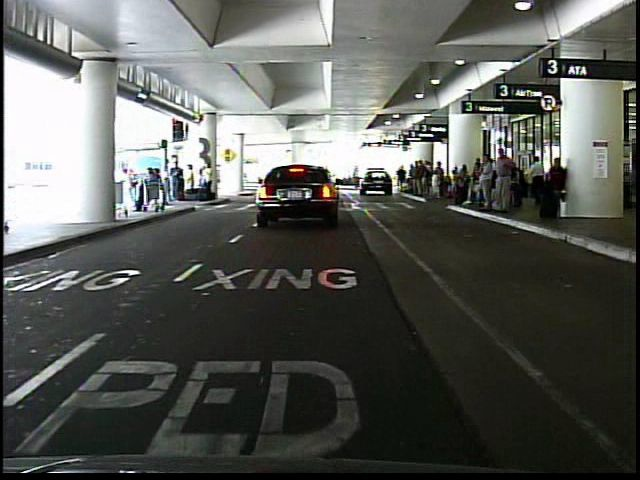person: (489, 143, 518, 219), (541, 152, 569, 225), (525, 153, 547, 208), (120, 162, 140, 218), (477, 152, 495, 210), (171, 155, 185, 203), (200, 158, 215, 200), (186, 161, 199, 201)
